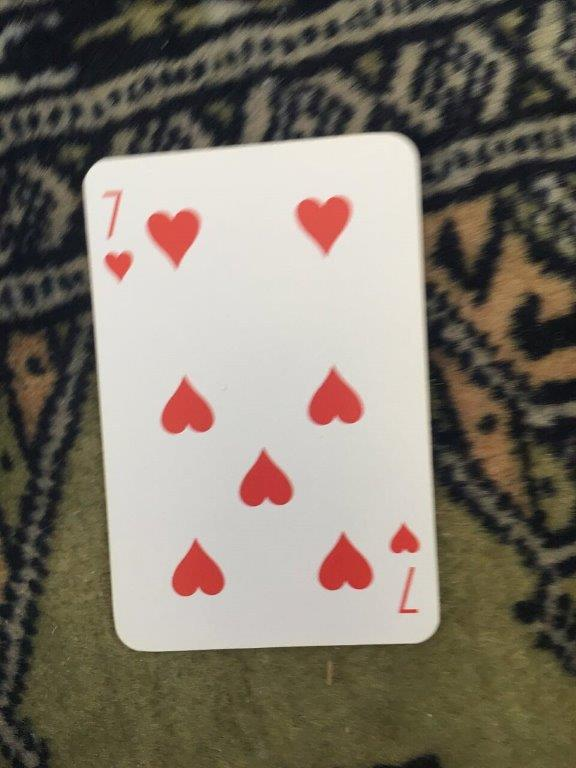7H: (78, 127, 443, 656)
